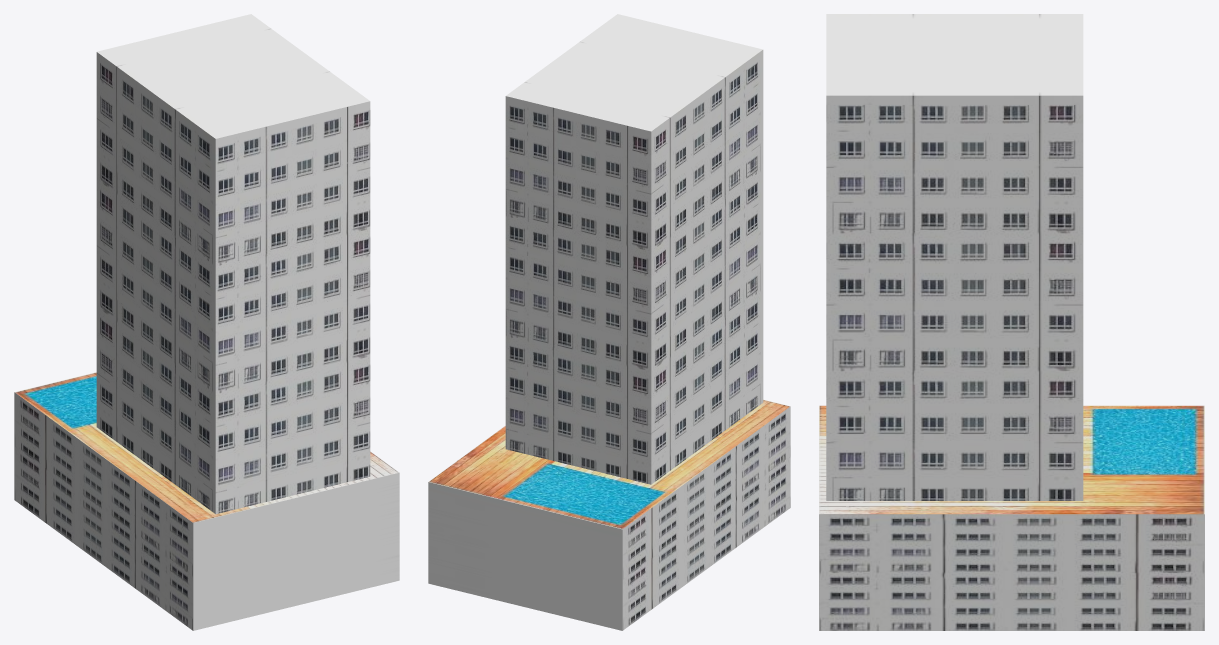
Rendered from mutiaraville.obj.
3 renders of one model, left to right at view 1: azimuth 30°, elevation 25°; view 2: azimuth 150°, elevation 25°; view 3: azimuth 270°, elevation 25°, orthographic. The views are drawn at different scales.
Visible parts, largest first — view 1: Cube.001, Cube; view 2: Cube.001, Cube; view 3: Cube.001, Cube.
Boxes of the visible parts, x1,y1,x2,y2 form: Cube.001: [96, 14, 370, 514]; Cube: [14, 372, 399, 630]; Cube.001: [505, 14, 763, 484]; Cube: [428, 399, 790, 630]; Cube.001: [826, 14, 1083, 500]; Cube: [819, 405, 1204, 630].
Size of the model in its own units: 4 by 8.95 by 6.
